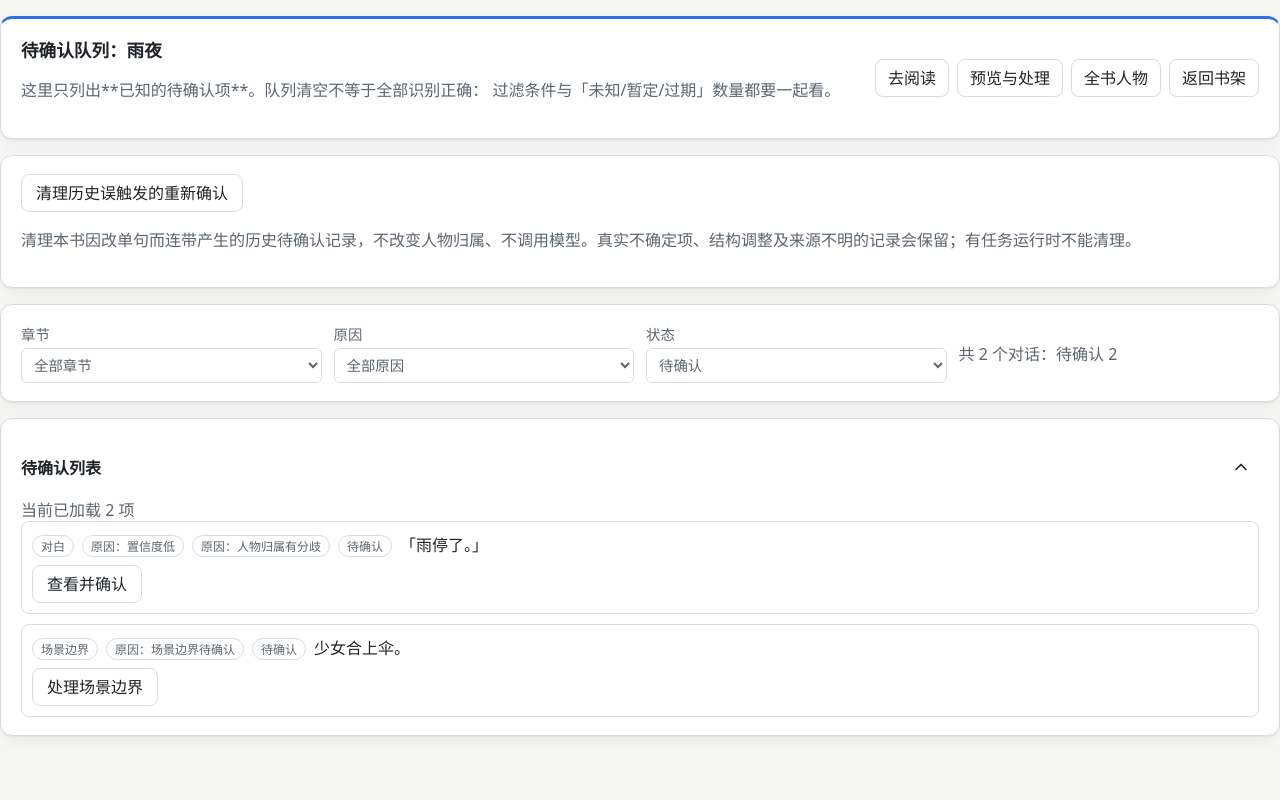
Test: ReviewPage › 清理误触发记录后重新读取队列，保留真实问题并显示统计
The image size is (1280, 800).
Click the button with test id "cleanup-dependency-reviews": [132, 193] box top-left (21, 174), bottom-right (243, 212)
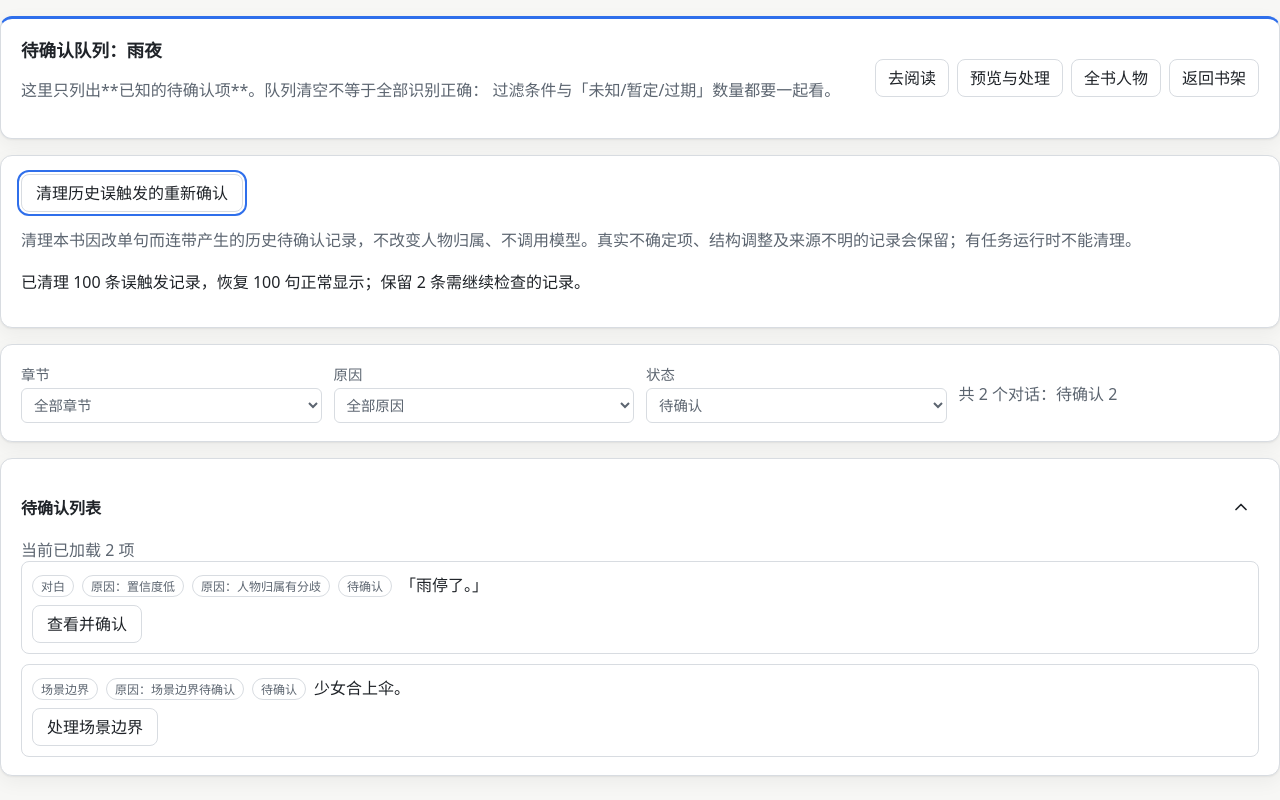
Check: the number of list items with test id "review-item" is 2, box top-left (21, 561), bottom-right (1259, 654); top-left (21, 664), bottom-right (1259, 757)
Check: the text "已清理 100 条误触发记录，恢复 100 句正常显示；保留 2 条需继续检查的记录。" is shown, box top-left (21, 271), bottom-right (590, 293)
